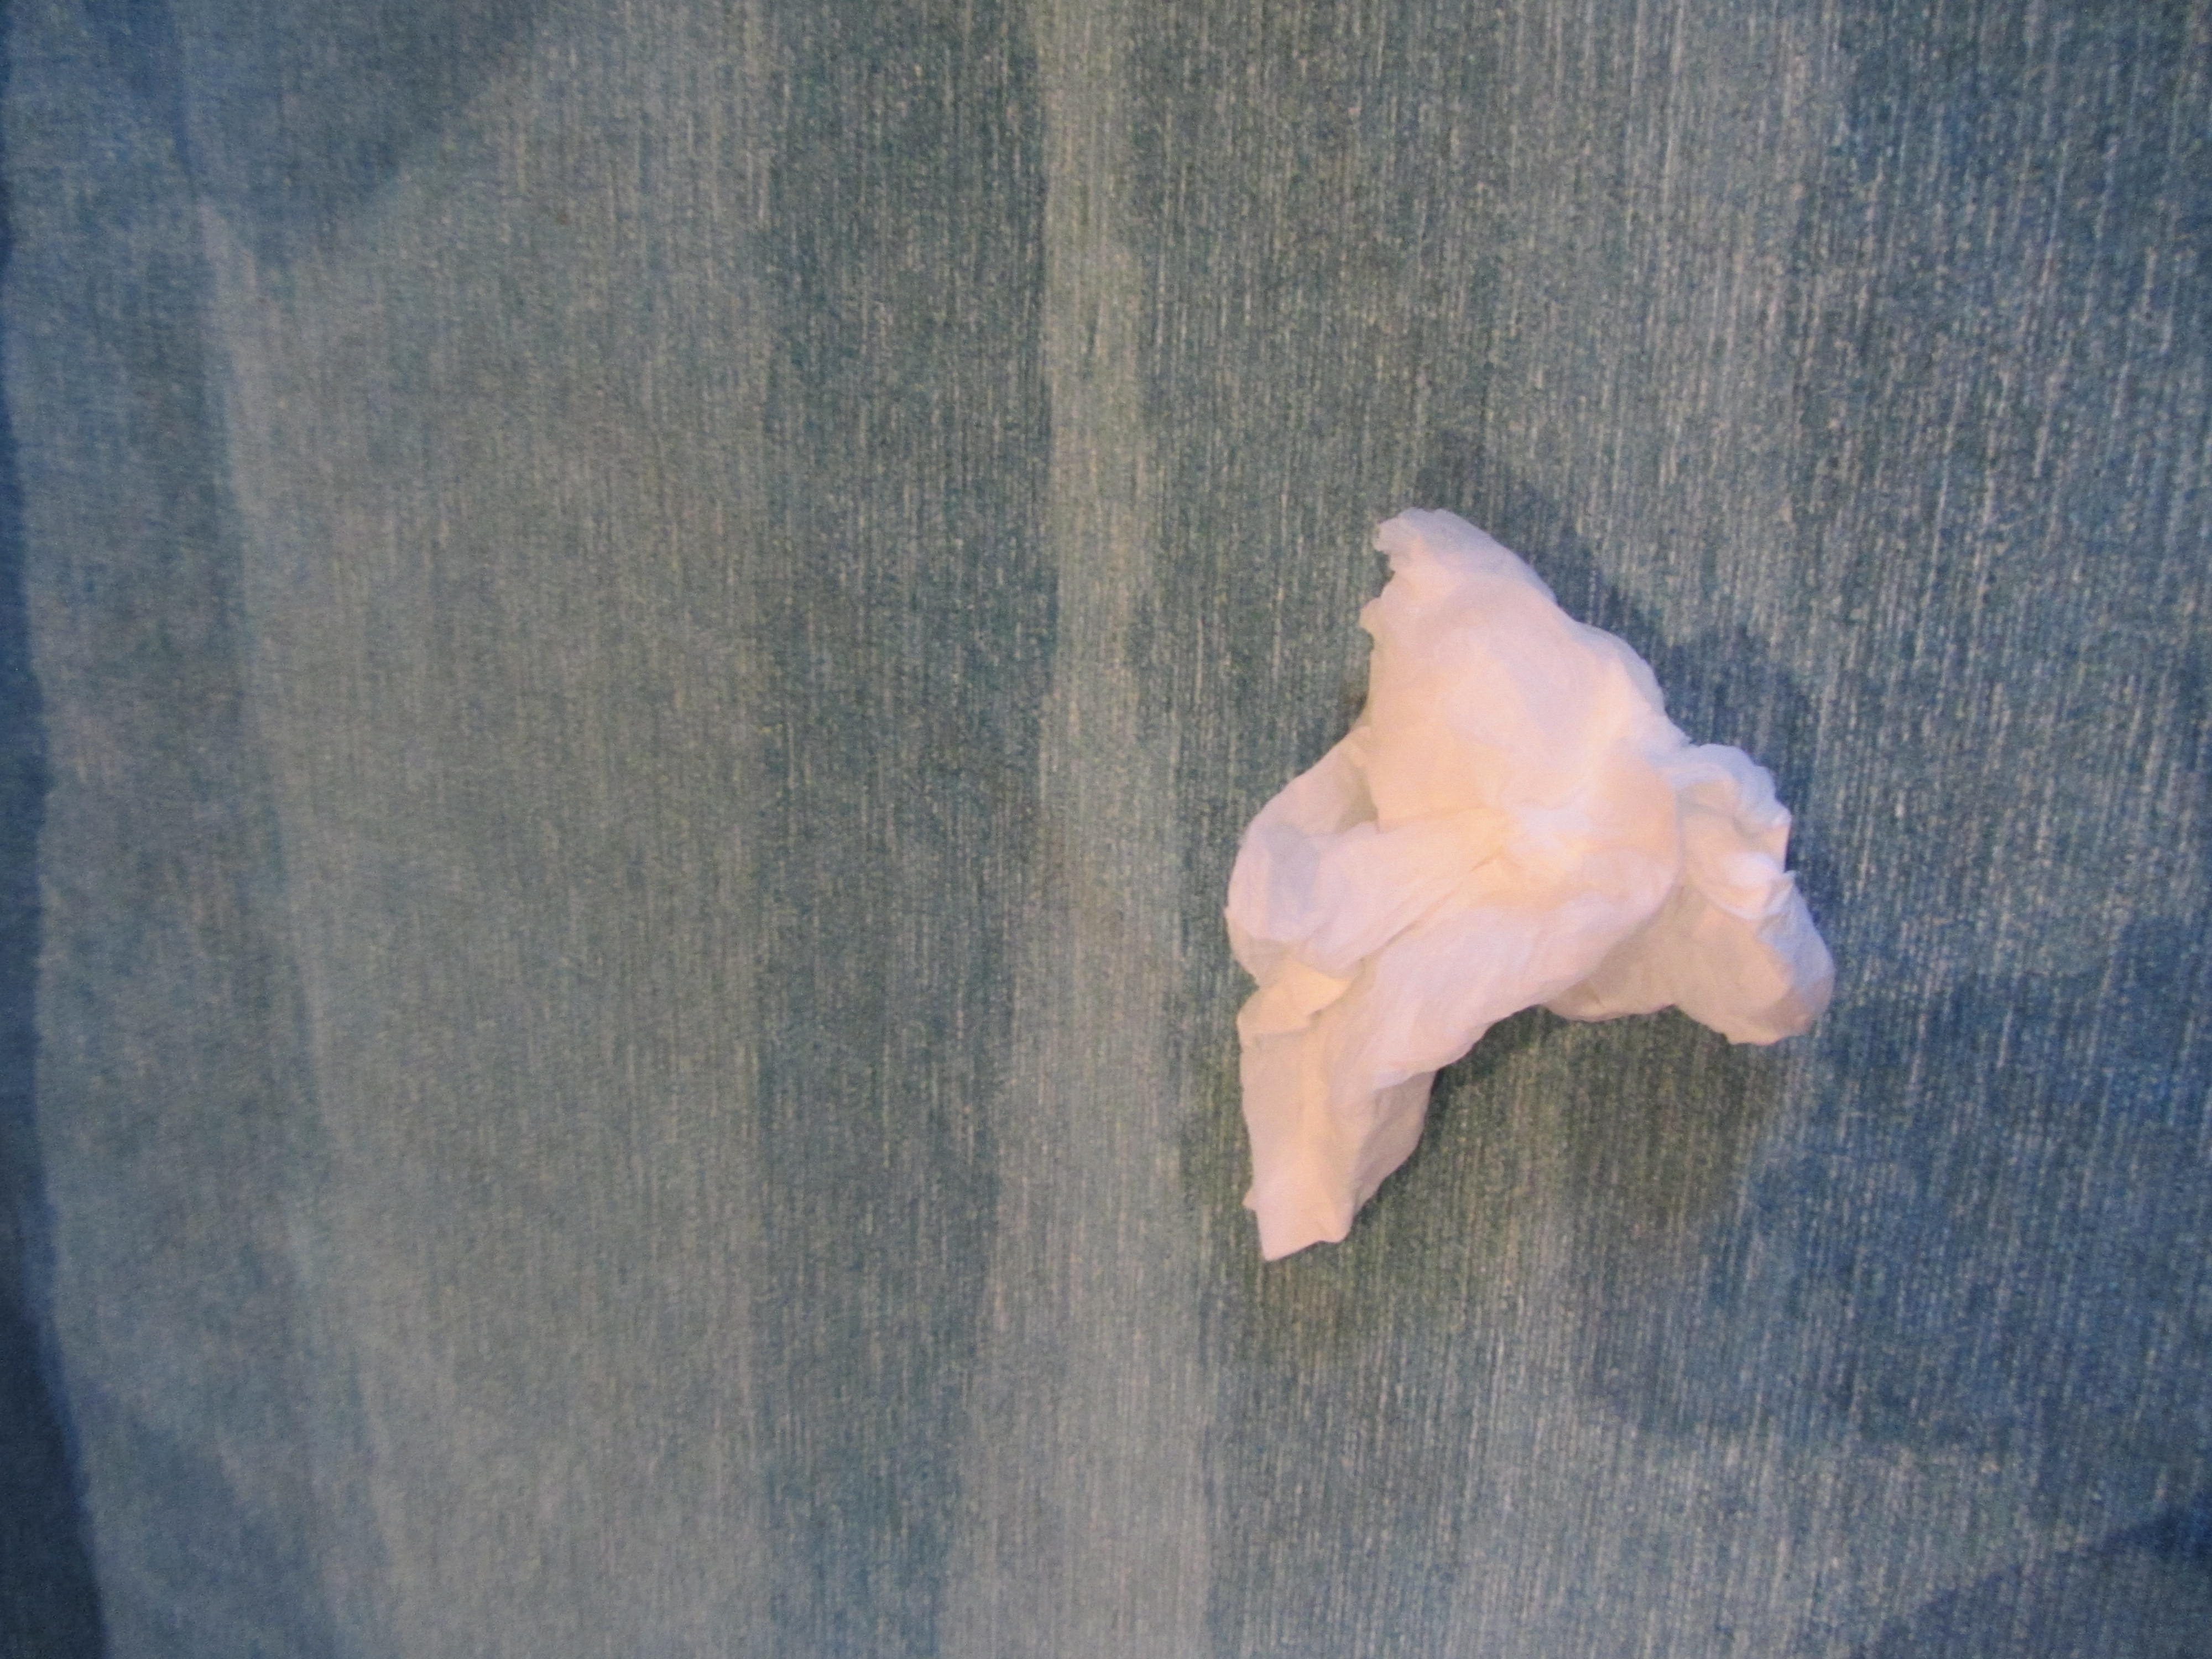tissue: (1224, 491, 1843, 1270)
